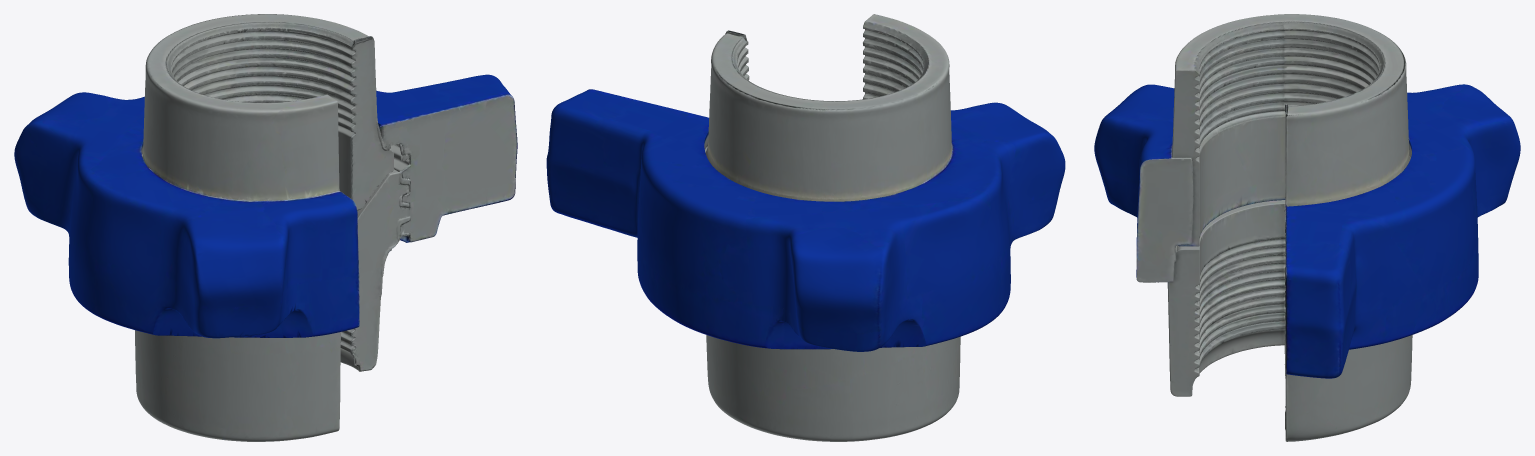
File: UnionDeGolpeFigura200.glb
3 renders of one model, left to right at view 1: azimuth 30°, elevation 25°; view 2: azimuth 150°, elevation 25°; view 3: azimuth 270°, elevation 25°, orthographic.
Visible parts, largest first — view 1: tripo_node_dfb4768f-1a16-44f6-9882-1165c74adaea; view 2: tripo_node_dfb4768f-1a16-44f6-9882-1165c74adaea; view 3: tripo_node_dfb4768f-1a16-44f6-9882-1165c74adaea.
Part boxes in pixels (x1=…): tripo_node_dfb4768f-1a16-44f6-9882-1165c74adaea: x1=14, y1=14, x2=517, y2=441; tripo_node_dfb4768f-1a16-44f6-9882-1165c74adaea: x1=546, y1=14, x2=1065, y2=441; tripo_node_dfb4768f-1a16-44f6-9882-1165c74adaea: x1=1094, y1=14, x2=1520, y2=441.
Size of the model in its own units: 0.9805 by 0.728 by 0.8499.
1 material, 1 textured.
